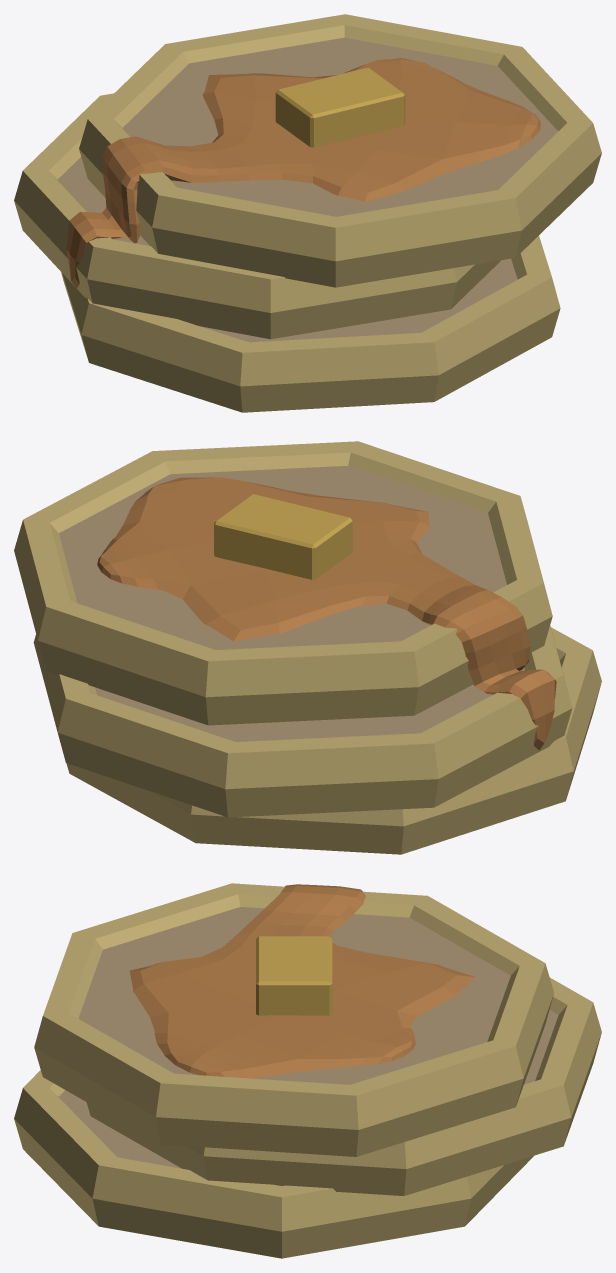
Rendered from Pancakes_Stack.glb.
The picture shows the model from 3 angles, top to bottom: view 1: azimuth 30°, elevation 25°; view 2: azimuth 150°, elevation 25°; view 3: azimuth 270°, elevation 25°; orthographic projection. The views are drawn at different scales.
Visible parts, largest first — view 1: Pancakes_Stack; view 2: Pancakes_Stack; view 3: Pancakes_Stack.
Part boxes in pixels (<box>): Pancakes_Stack: <box>14,14,601,412</box>; Pancakes_Stack: <box>14,441,601,854</box>; Pancakes_Stack: <box>14,883,601,1258</box>.
Size of the model in its own units: 1.58 by 0.6374 by 1.62.
